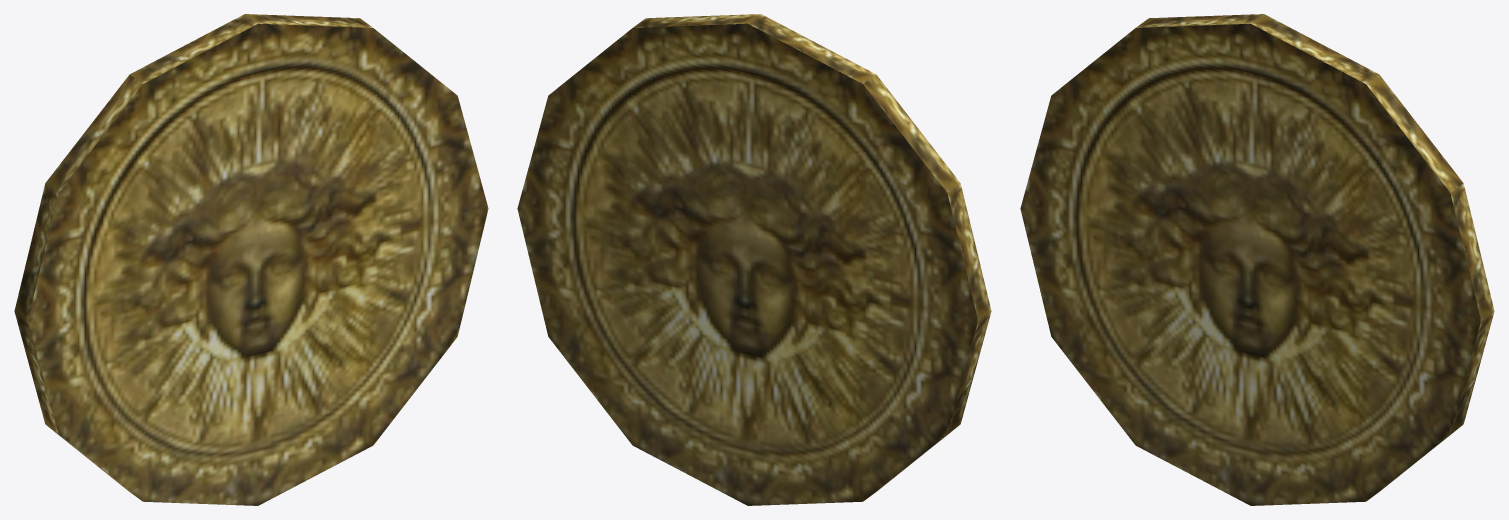
Rendered from Items.Coin.fbx.
3 renders of one model, left to right at view 1: azimuth 30°, elevation 25°; view 2: azimuth 150°, elevation 25°; view 3: azimuth 330°, elevation 25°, orthographic.
Parts seen in each view (by area): view 1: Coin; view 2: Coin; view 3: Coin.
Part boxes in pixels (x1,y1,x2,y2): Coin: [14, 14, 488, 505]; Coin: [517, 14, 991, 505]; Coin: [1020, 14, 1494, 505].
Bounding box in the file's own units: 11.55 × 11.55 × 0.5775.
